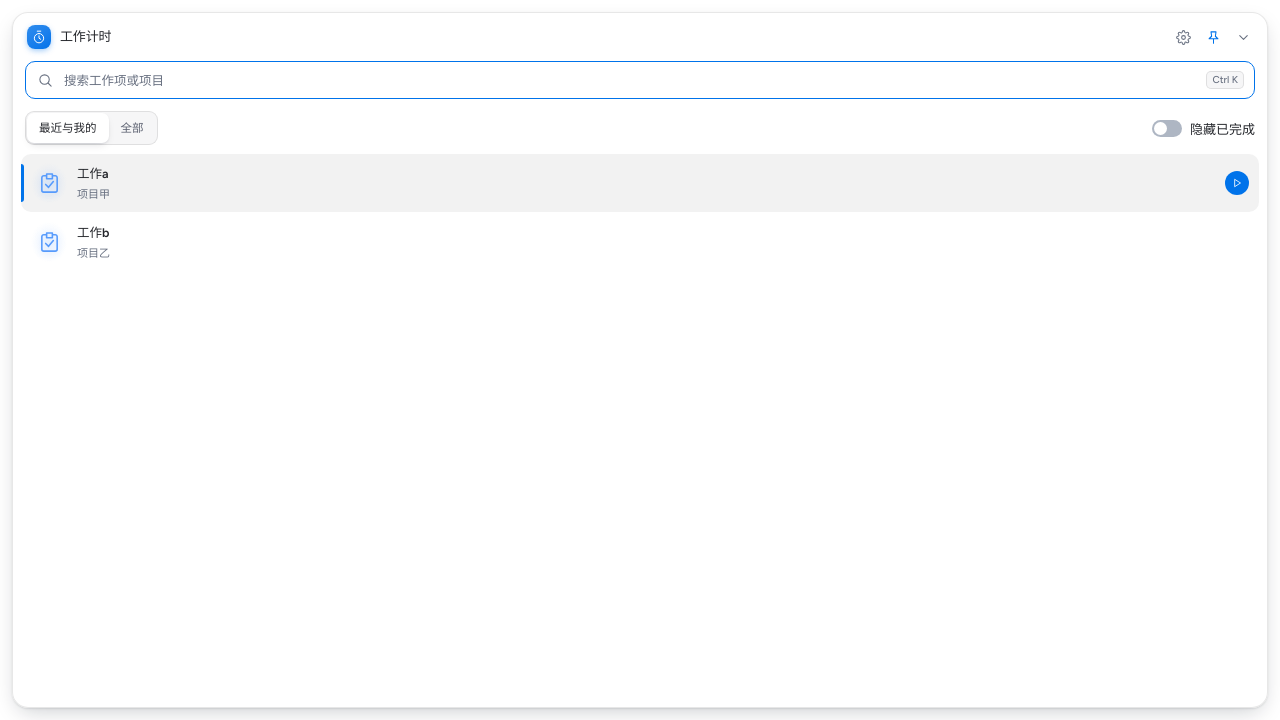
Test case: personal cross-project timer picker › opens settings from the gear and saves display preferences through the shell
What coordinates should you click on to do the following:
click the button named "计时设置"
I would click on:
 (1183, 37)
Its box is [1169,23,1197,51].
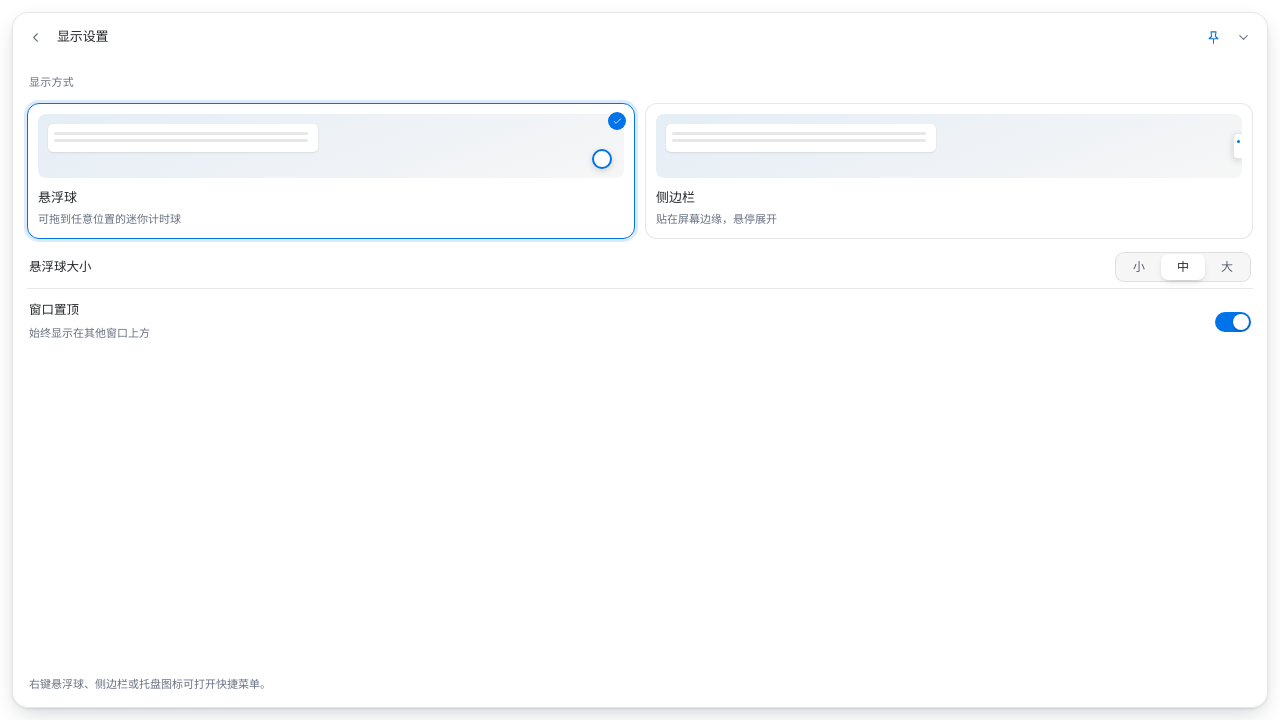
Expected: the radio button with class "is-selected" shows "悬浮球", [27,103,635,239]
What coordinates should you click on to do the following:
click the radio button labelled "大"
I would click on:
 (1227, 266)
Its box is [1205,254,1249,280].
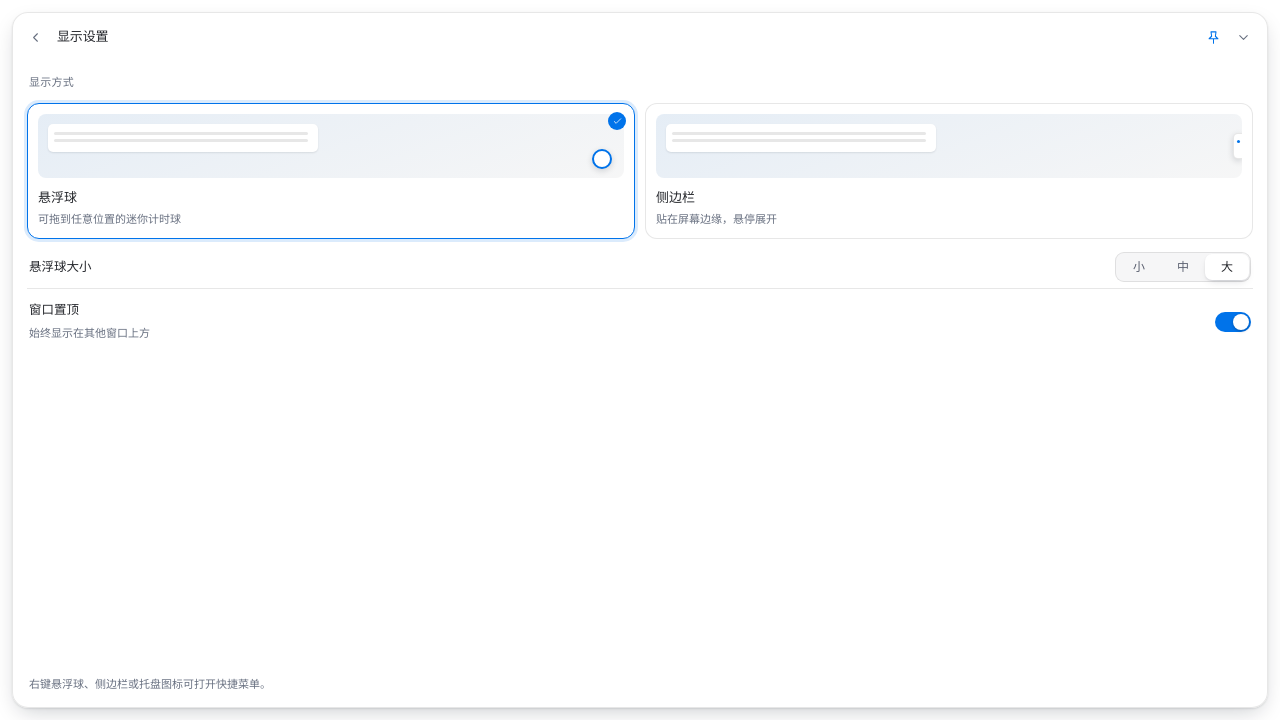
What coordinates should you click on to do the following:
click the radio button with class "display-option" showing "侧边栏 贴在屏幕边缘，悬停展开"
I would click on:
 (949, 171)
Its box is [645,103,1253,239].
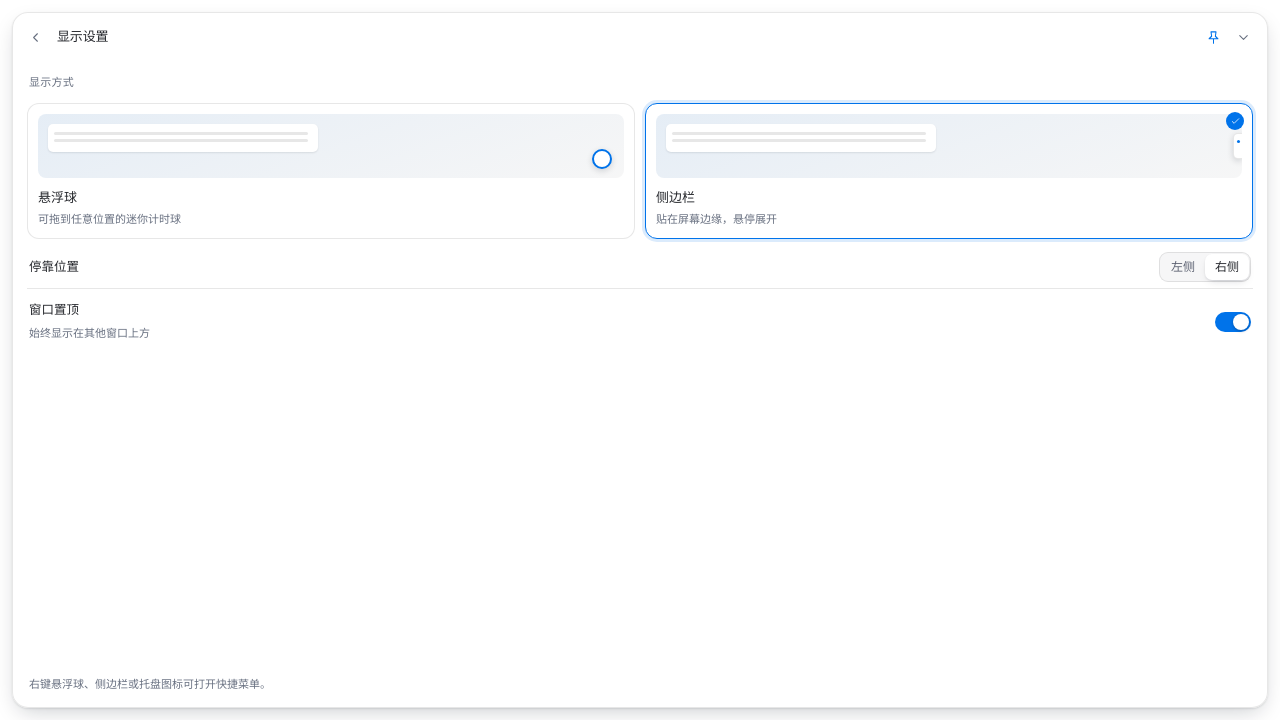
Expected: the radio button with class "is-selected" shows "侧边栏", [645,103,1253,239]
Expected: the text "停靠位置" is shown, [29,256,79,278]
What coordinates should you click on to do the following:
click the switch named "窗口置顶"
I would click on:
 (1233, 322)
Its box is [1215,312,1251,332].
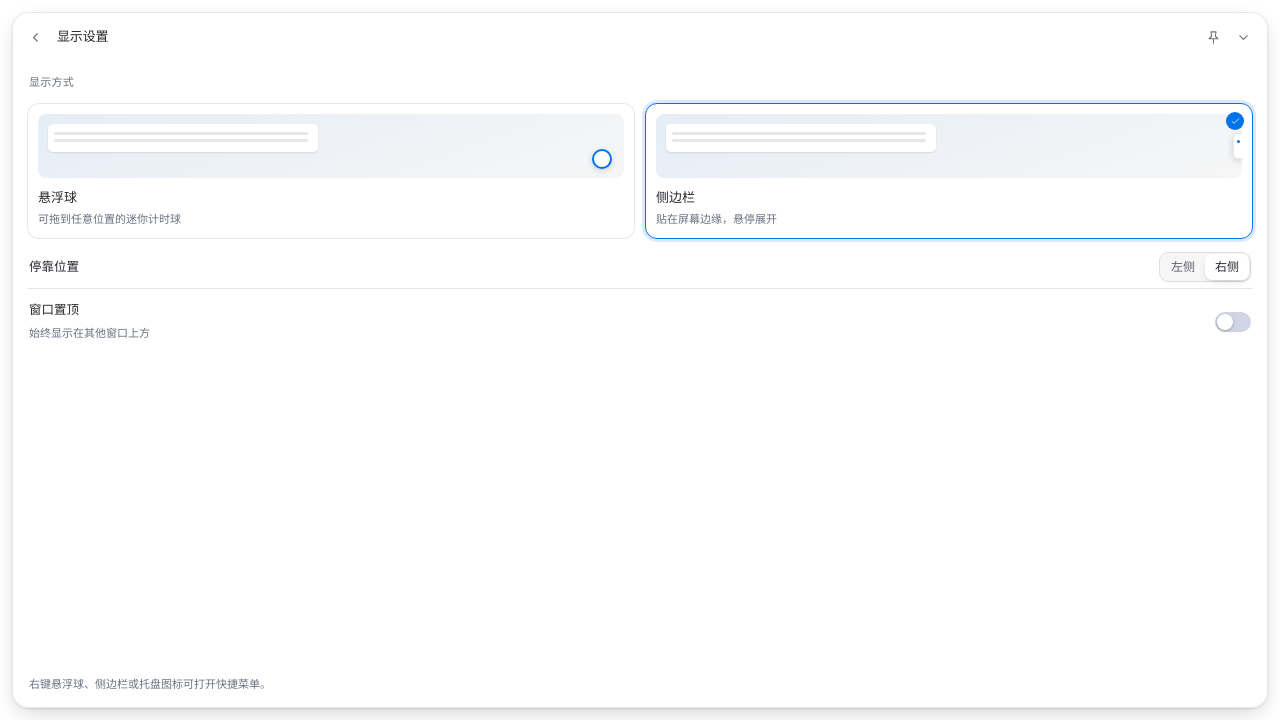
What coordinates should you click on to do the following:
click the button named "返回工作列表"
I would click on:
 (35, 37)
Its box is [21,23,49,51].
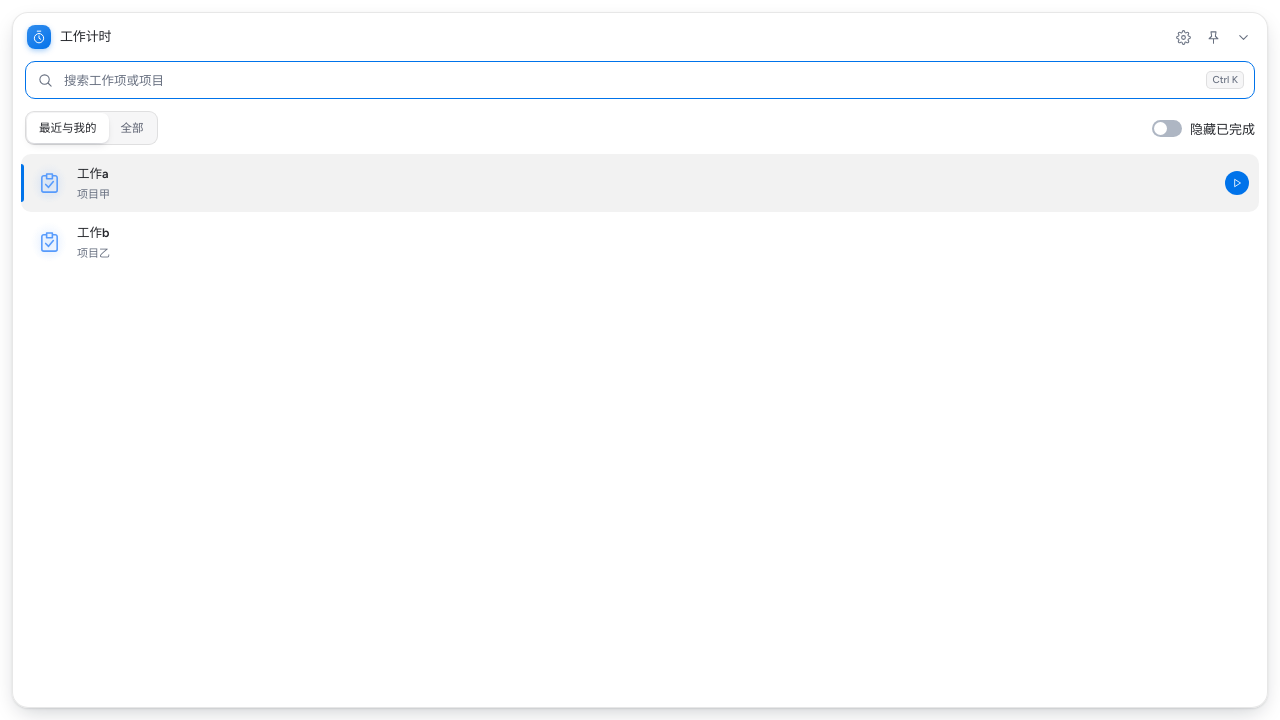
Expected: the dropdown with placeholder "搜索工作项或项目" is shown, [62,62,1198,98]
